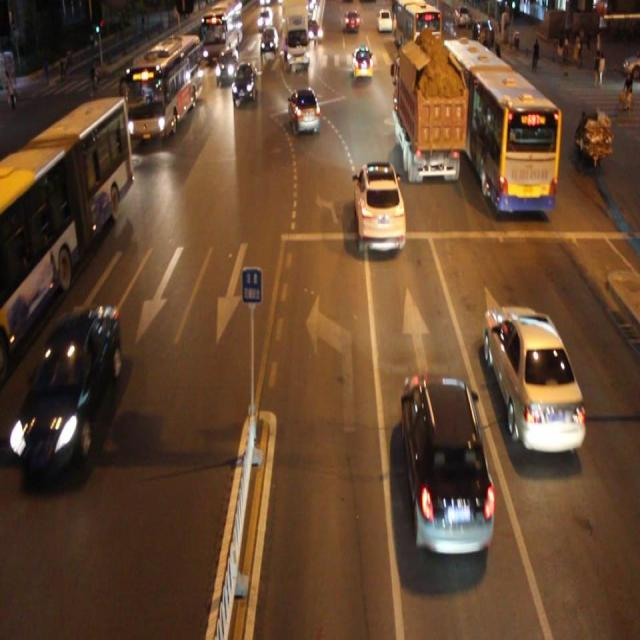bus: (394, 43, 461, 181)
car: (21, 304, 120, 484), (402, 373, 493, 554), (483, 305, 584, 454), (353, 161, 405, 250), (288, 86, 320, 136), (231, 62, 258, 106)
van: (1, 95, 129, 367), (442, 39, 556, 212), (118, 34, 201, 138)
